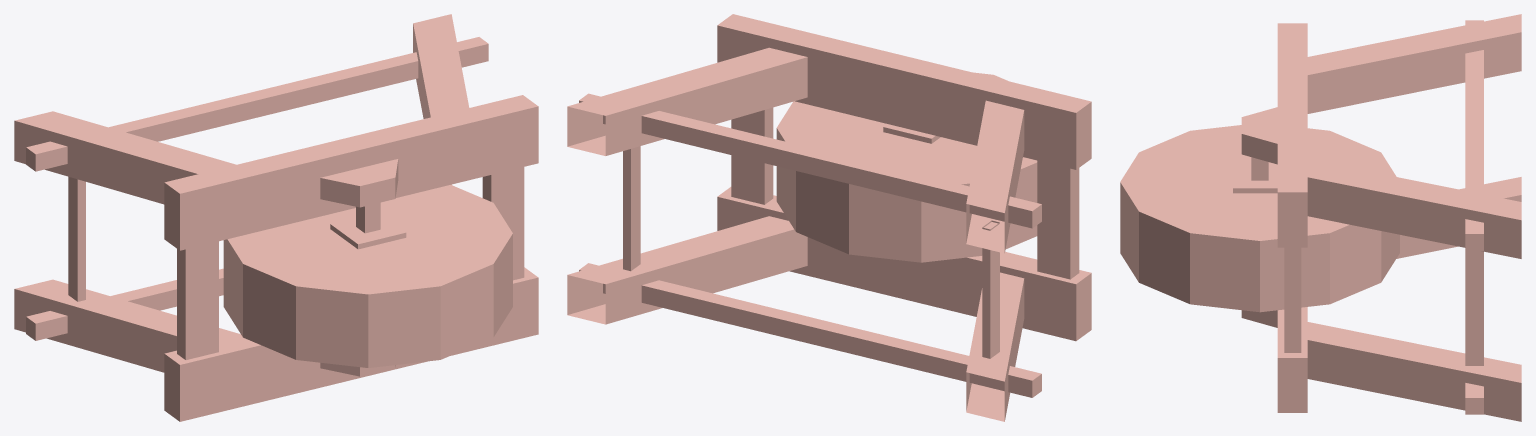
The model's file is Mega_Asset_s_Pack_Cylinder_045.FBX.
3 views of the same model, side by side, from view 1: azimuth 30°, elevation 25°; view 2: azimuth 150°, elevation 25°; view 3: azimuth 270°, elevation 25° (orthographic). The views are drawn at different scales.
Visible parts, largest first — view 1: Mega_Asset_s_Pack_Cylinder_045; view 2: Mega_Asset_s_Pack_Cylinder_045; view 3: Mega_Asset_s_Pack_Cylinder_045.
Boxes of the visible parts, left/top/right/bottom form: Mega_Asset_s_Pack_Cylinder_045: left=14, top=14, right=538, bottom=421; Mega_Asset_s_Pack_Cylinder_045: left=567, top=14, right=1091, bottom=421; Mega_Asset_s_Pack_Cylinder_045: left=1120, top=14, right=1521, bottom=421.
Size of what is drawn, in the model's own units: 292 by 232 by 141.
